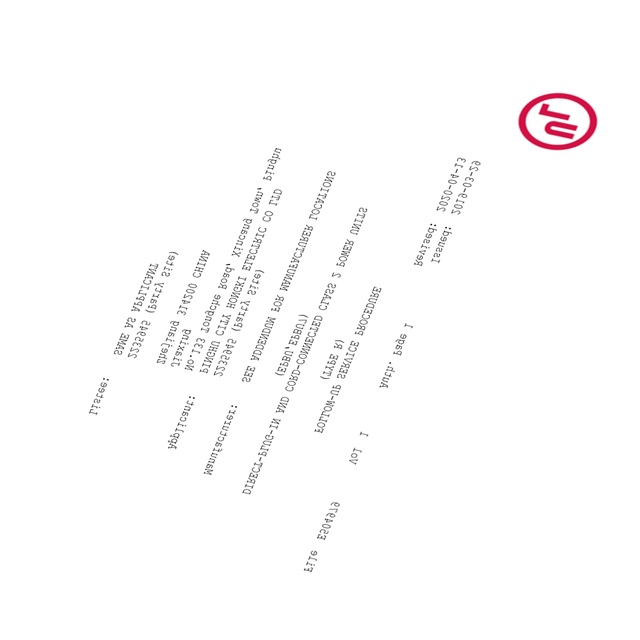ul: (518, 91, 598, 150)
